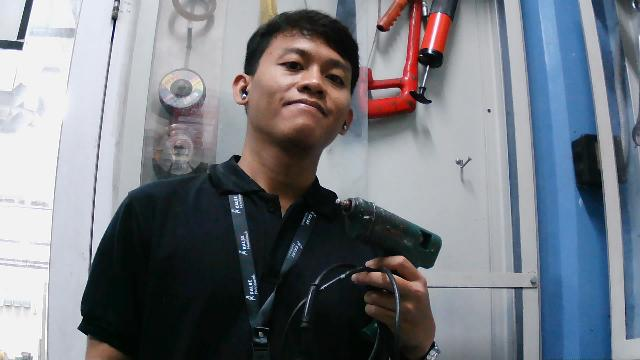gun_lem: (328, 193, 445, 308)
